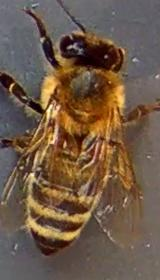varroa_mite: (52, 130, 75, 151)
